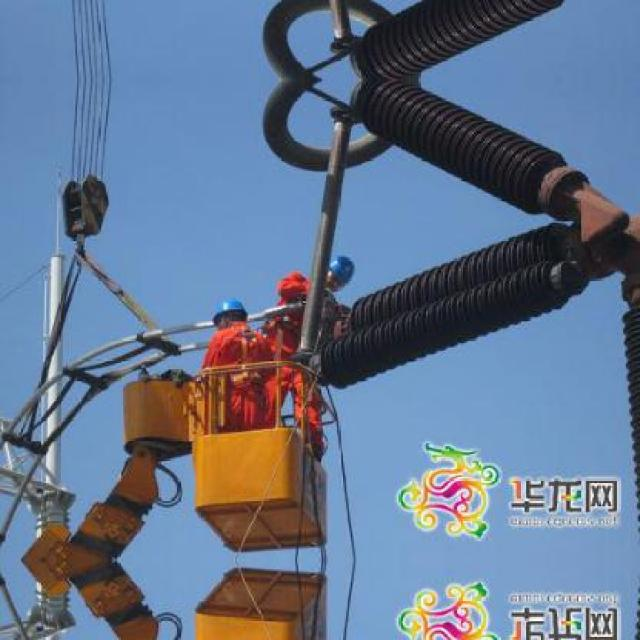helmet: (210, 294, 252, 337), (324, 251, 362, 297)
